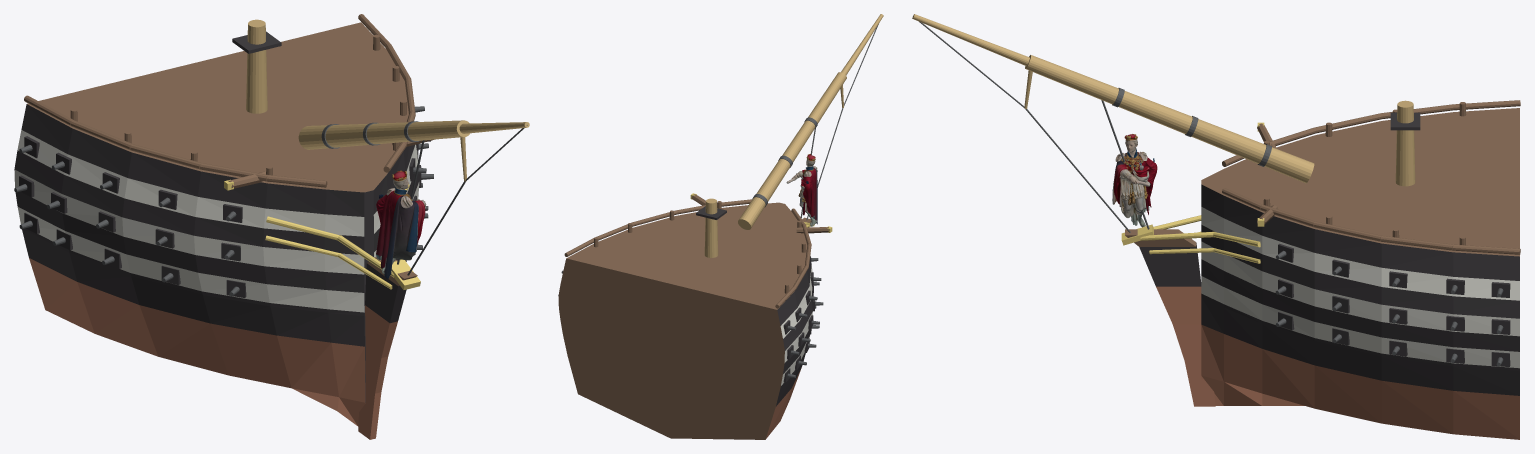
The model's file is royal-william.glb.
The picture shows the model from 3 angles, left to right: view 1: azimuth 30°, elevation 25°; view 2: azimuth 150°, elevation 25°; view 3: azimuth 270°, elevation 25°; orthographic projection. The views are drawn at different scales.
Parts seen in each view (by area): view 1: royal_william_ParentBow, royal_william_Figurehead; view 2: royal_william_ParentBow, royal_william_Figurehead; view 3: royal_william_ParentBow, royal_william_Figurehead.
Boxes of the visible parts, left/top/right/bottom form: royal_william_ParentBow: left=14, top=14, right=529, bottom=439; royal_william_Figurehead: left=376, top=170, right=426, bottom=278; royal_william_ParentBow: left=558, top=14, right=883, bottom=439; royal_william_Figurehead: left=786, top=154, right=817, bottom=226; royal_william_ParentBow: left=912, top=14, right=1520, bottom=439; royal_william_Figurehead: left=1112, top=134, right=1157, bottom=227.
Size of the model in its own units: 16.74 by 18.06 by 25.46.
2 materials, 2 textured.
